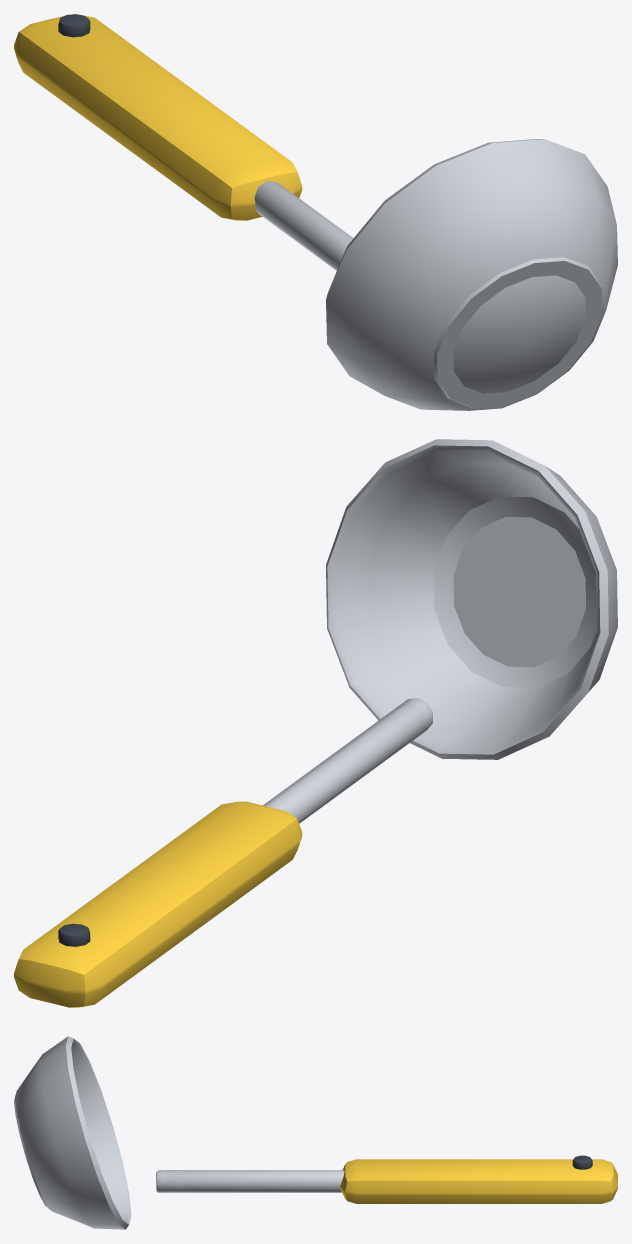
Rendered from concha.glb.
The picture shows the model from 3 angles, top to bottom: view 1: azimuth 30°, elevation 25°; view 2: azimuth 150°, elevation 25°; view 3: azimuth 270°, elevation 25°; orthographic projection. The views are drawn at different scales.
Parts seen in each view (by area): view 1: concha; view 2: concha; view 3: concha.
Part boxes in pixels (bbox=[...]): concha: bbox=[14, 14, 617, 410]; concha: bbox=[14, 439, 617, 1007]; concha: bbox=[14, 1036, 617, 1229].
Bounding box in the file's own units: 0.08 × 0.0761 × 0.2394.
1 material, 1 textured.
